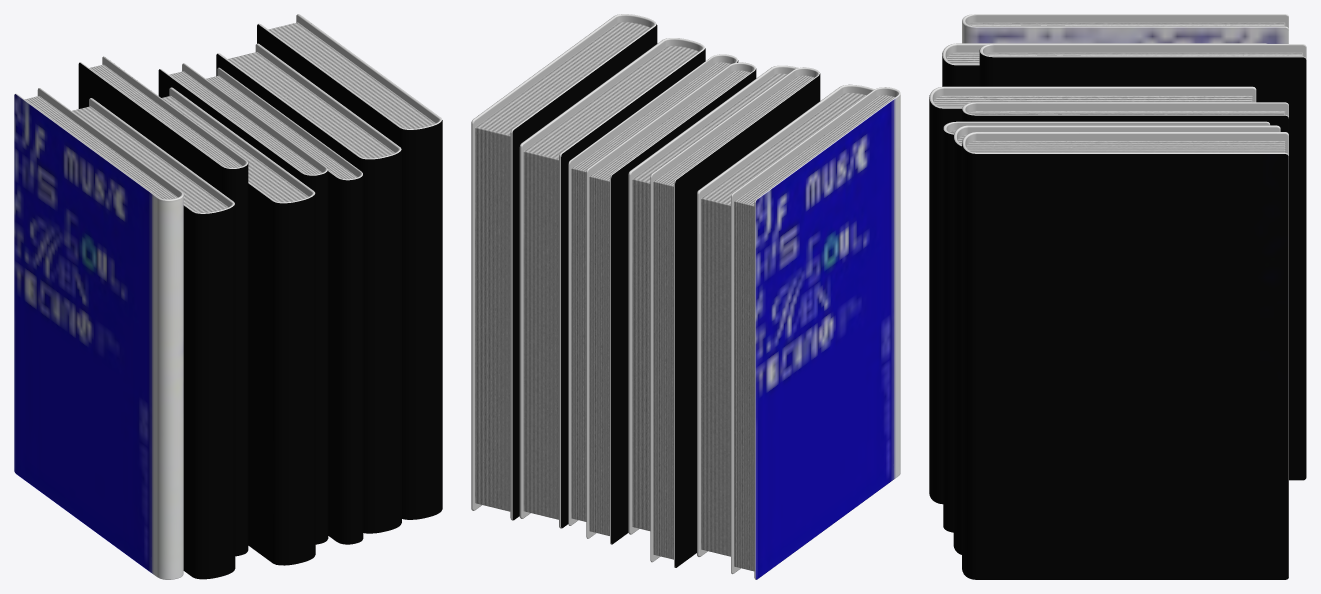
File: bk_books.obj
The picture shows the model from 3 angles, left to right: view 1: azimuth 30°, elevation 25°; view 2: azimuth 150°, elevation 25°; view 3: azimuth 270°, elevation 25°; orthographic projection. The views are drawn at different scales.
Size of the model in its own units: 0.7626 by 1 by 0.8014.
1 material, 1 textured.
